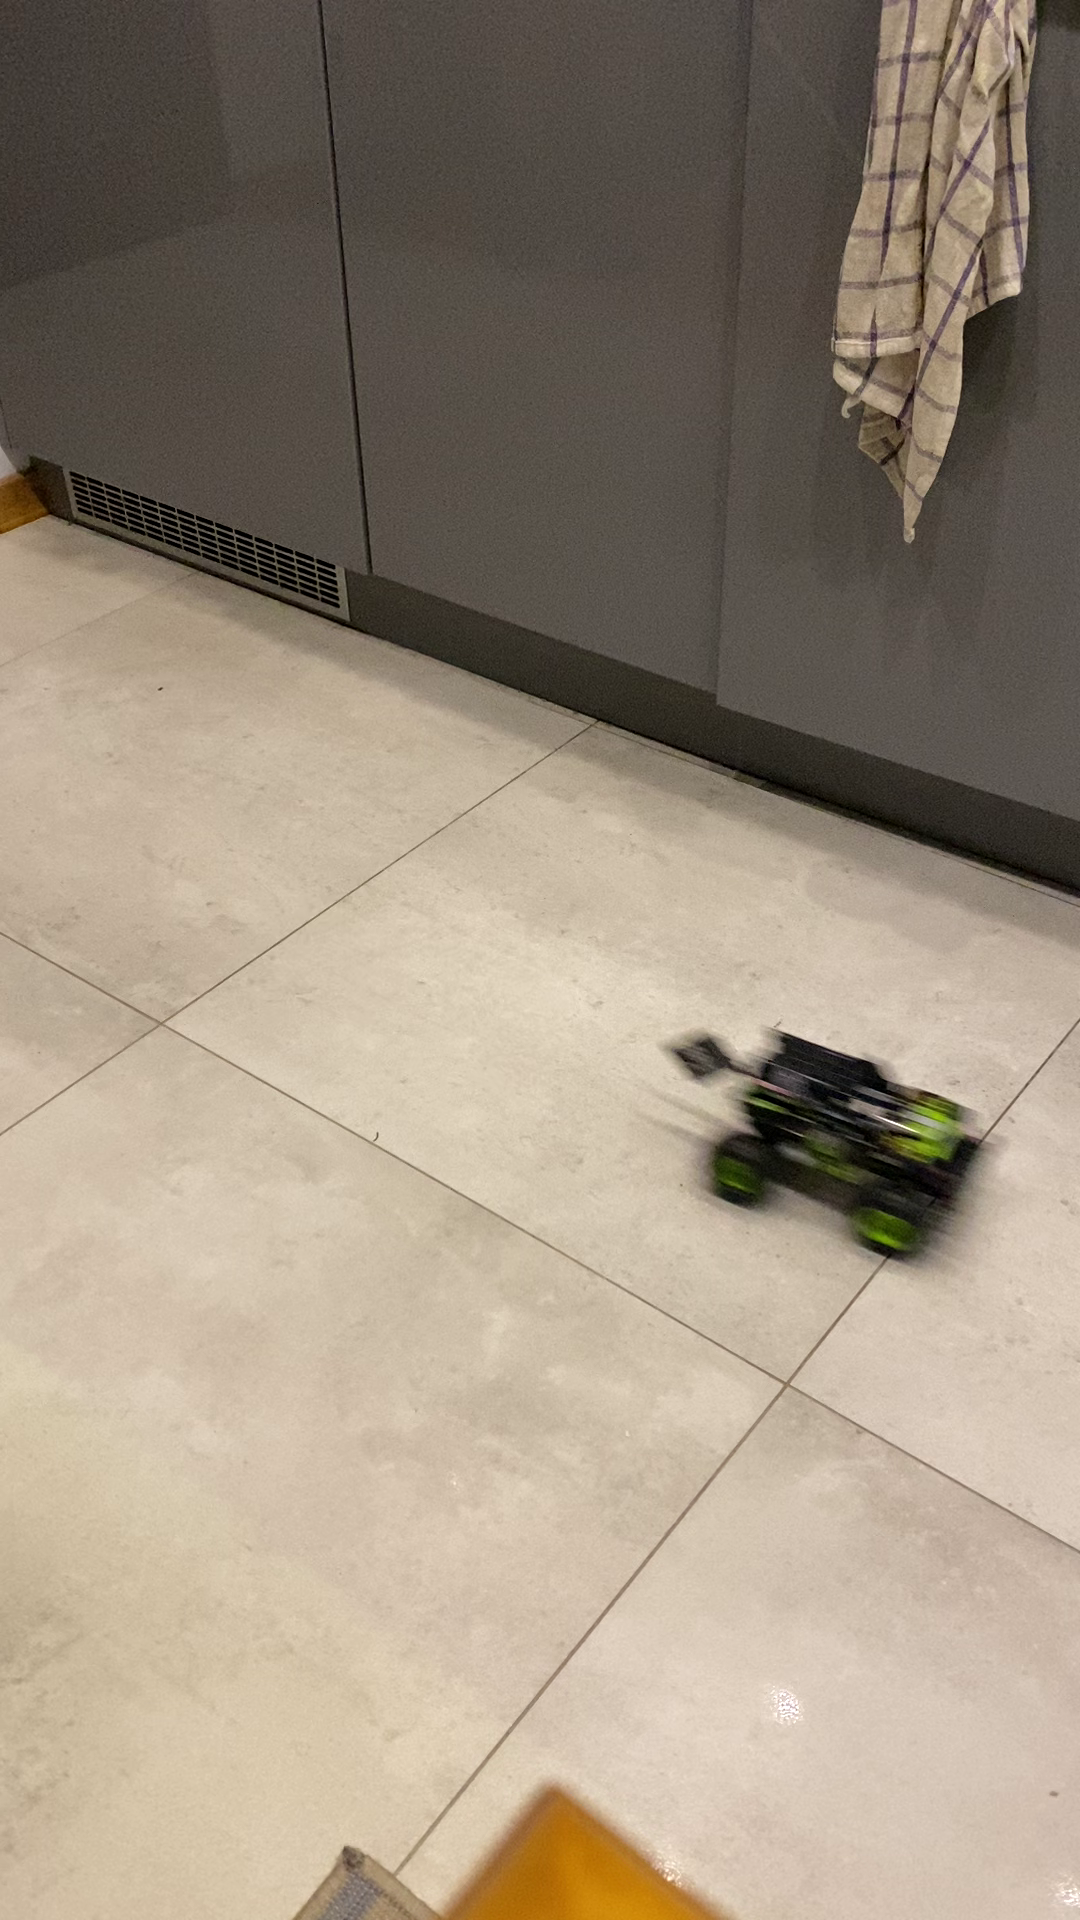car: (707, 1029, 980, 1266)
